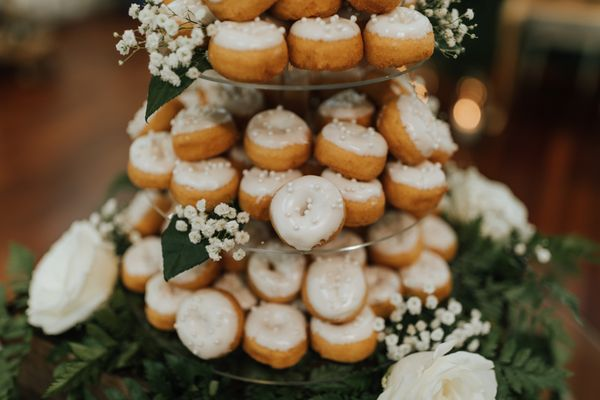pasta: (27, 217, 120, 335), (269, 175, 346, 252), (207, 19, 288, 82), (362, 5, 436, 69), (243, 105, 313, 171), (314, 119, 387, 181), (286, 14, 364, 70), (383, 157, 448, 217), (238, 165, 305, 221), (169, 157, 239, 207), (126, 131, 177, 189)
